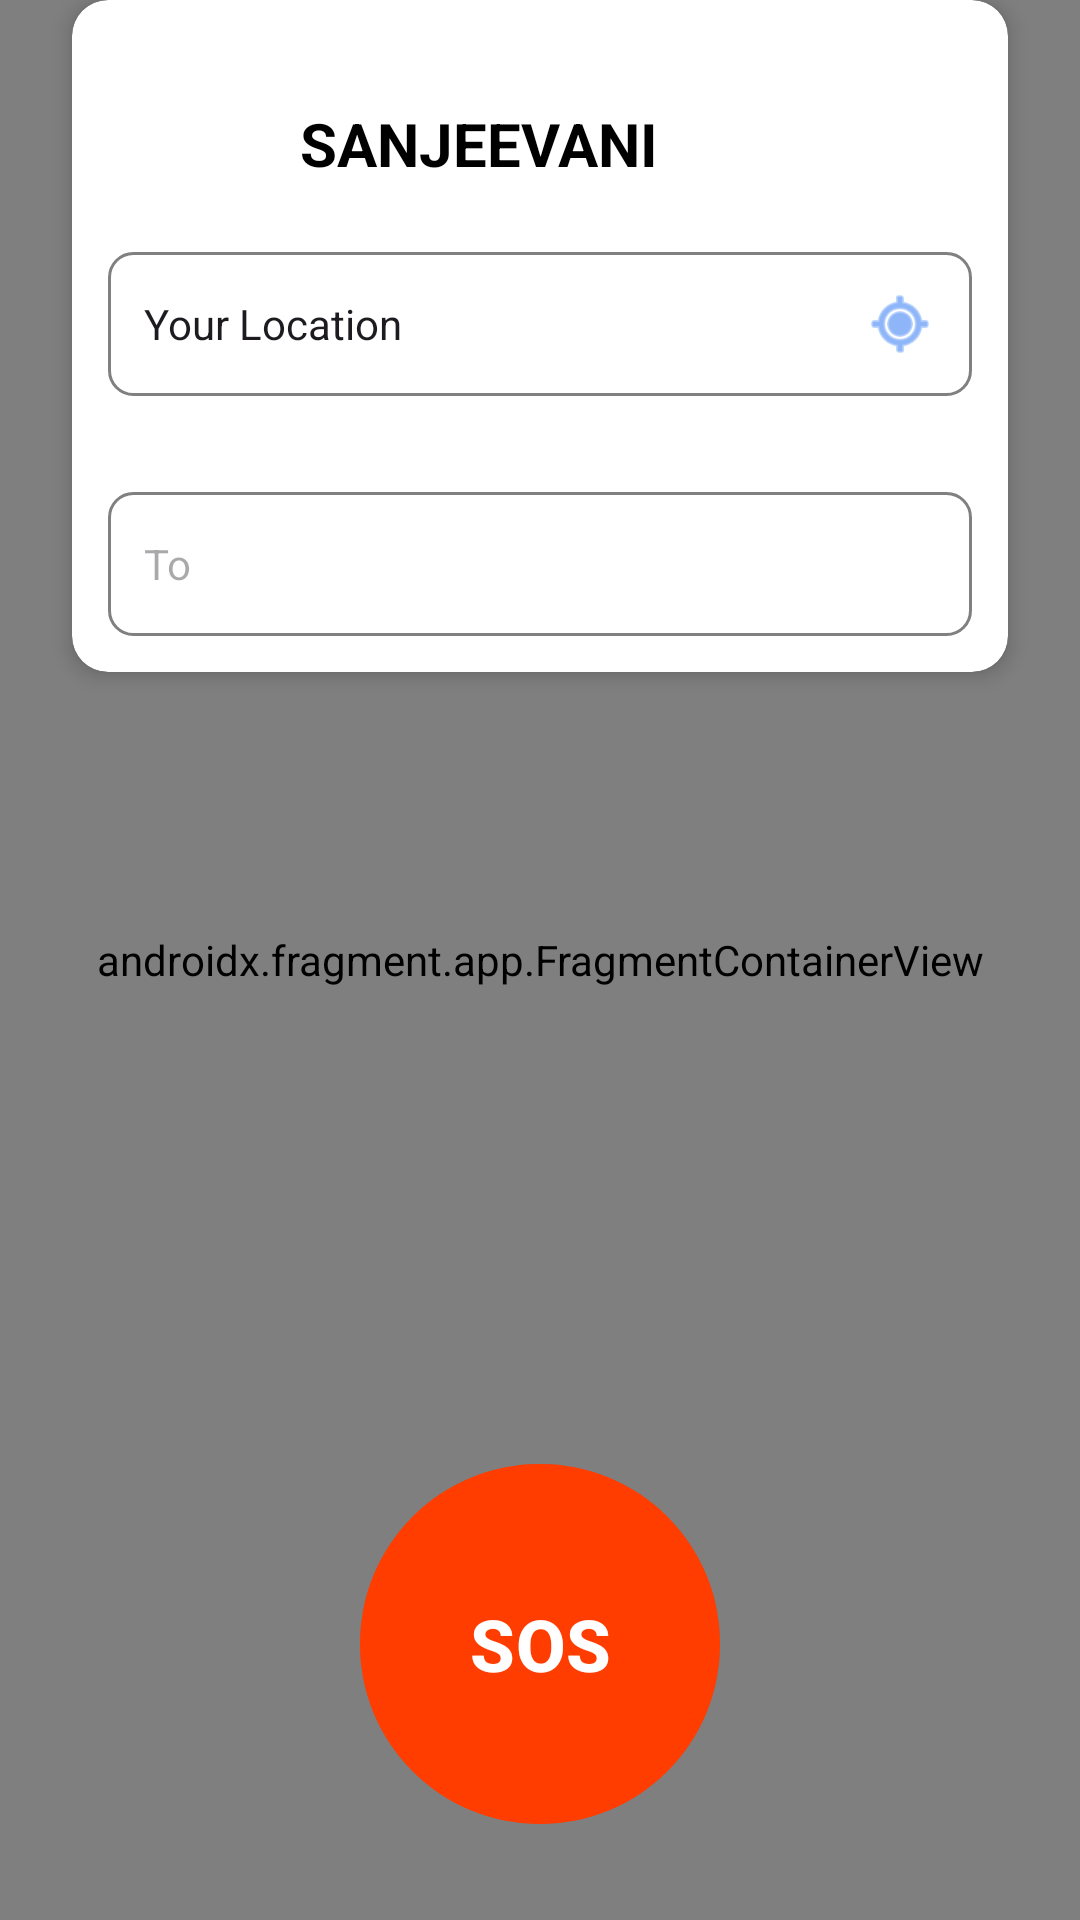

Icons on this 1080px×1920px Android screen, each with the point to tap as [x,y]:
mylocation: [900,324]
